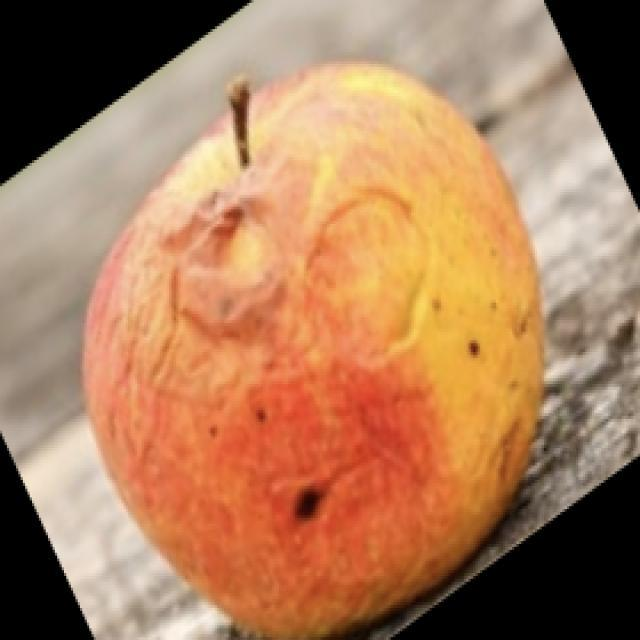Rotten: (68, 51, 541, 640)
